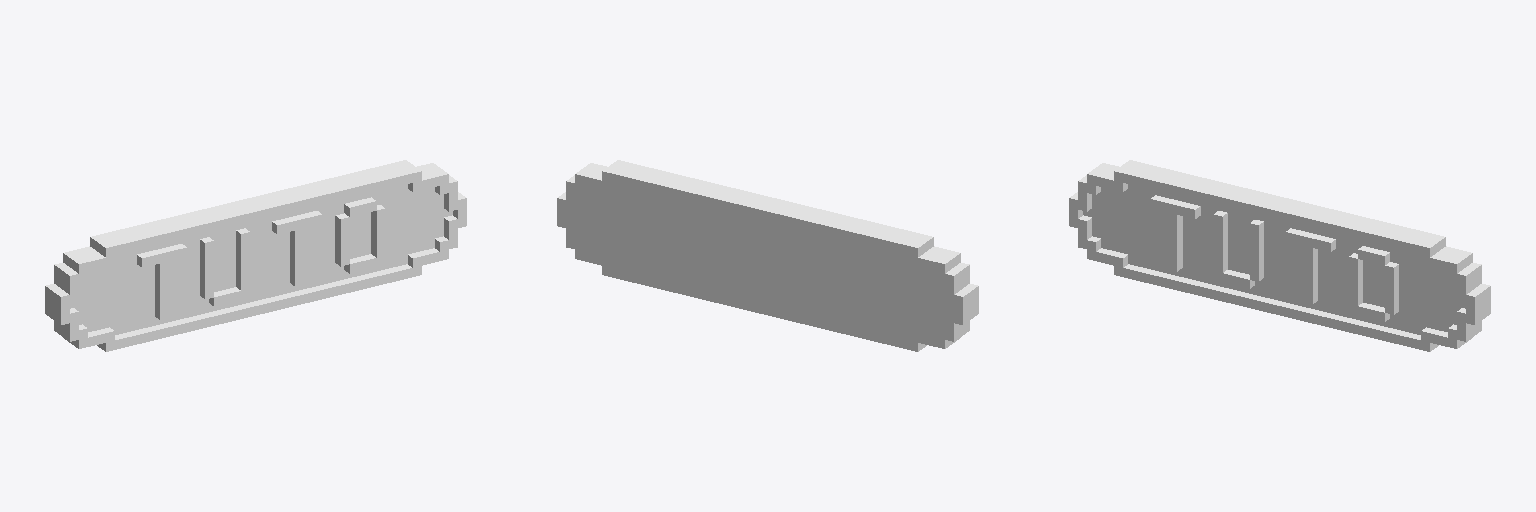
Rendered from untitled-1-Tutorial.obj.
3 renders of one model, left to right at view 1: azimuth 30°, elevation 25°; view 2: azimuth 150°, elevation 25°; view 3: azimuth 330°, elevation 25°, orthographic.
Visible parts, largest first — view 1: Tutorial; view 2: Tutorial; view 3: Tutorial.
Part boxes in pixels (x1,y1,x2,y2): Tutorial: (45,160,466,351); Tutorial: (557,160,978,351); Tutorial: (1069,160,1490,351).
Bounding box in the file's own units: 4.5 × 1.1 × 0.3.